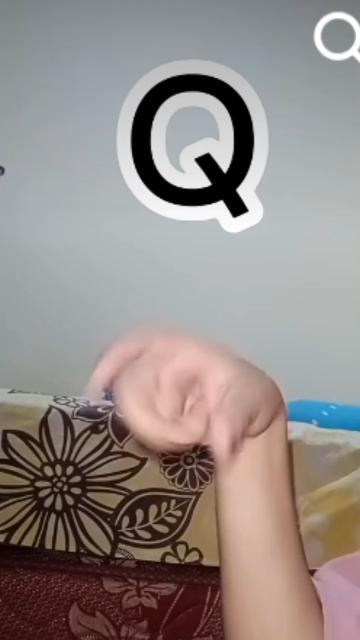Q: (80, 322, 302, 468)
